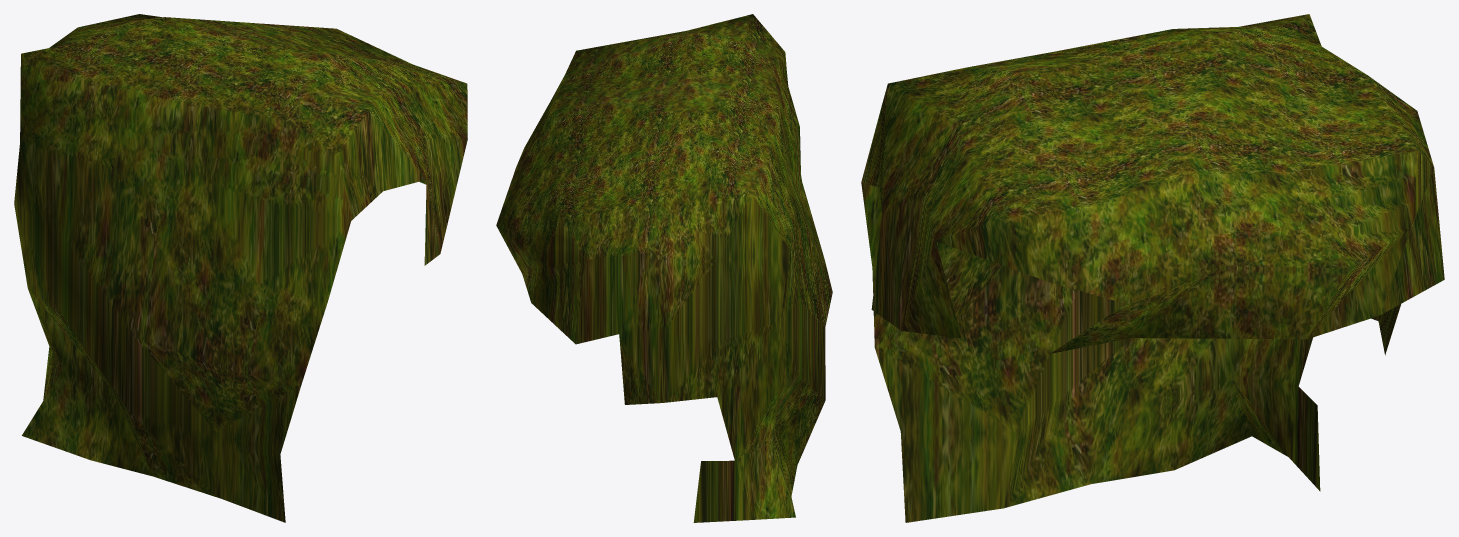
File: TROLLHOLE02_RM_PSURF187.fbx
3 renders of one model, left to right at view 1: azimuth 30°, elevation 25°; view 2: azimuth 150°, elevation 25°; view 3: azimuth 270°, elevation 25°, orthographic. The views are drawn at different scales.
Parts seen in each view (by area): view 1: TROLLHOLE02_RM_PSURF187; view 2: TROLLHOLE02_RM_PSURF187; view 3: TROLLHOLE02_RM_PSURF187.
Part boxes in pixels (bbox=[...]): TROLLHOLE02_RM_PSURF187: bbox=[14, 14, 467, 522]; TROLLHOLE02_RM_PSURF187: bbox=[496, 14, 832, 522]; TROLLHOLE02_RM_PSURF187: bbox=[861, 14, 1444, 522].
Bounding box in the file's own units: 86830 × 98641 × 103839.
Materials: 1 (1 with a texture image).
